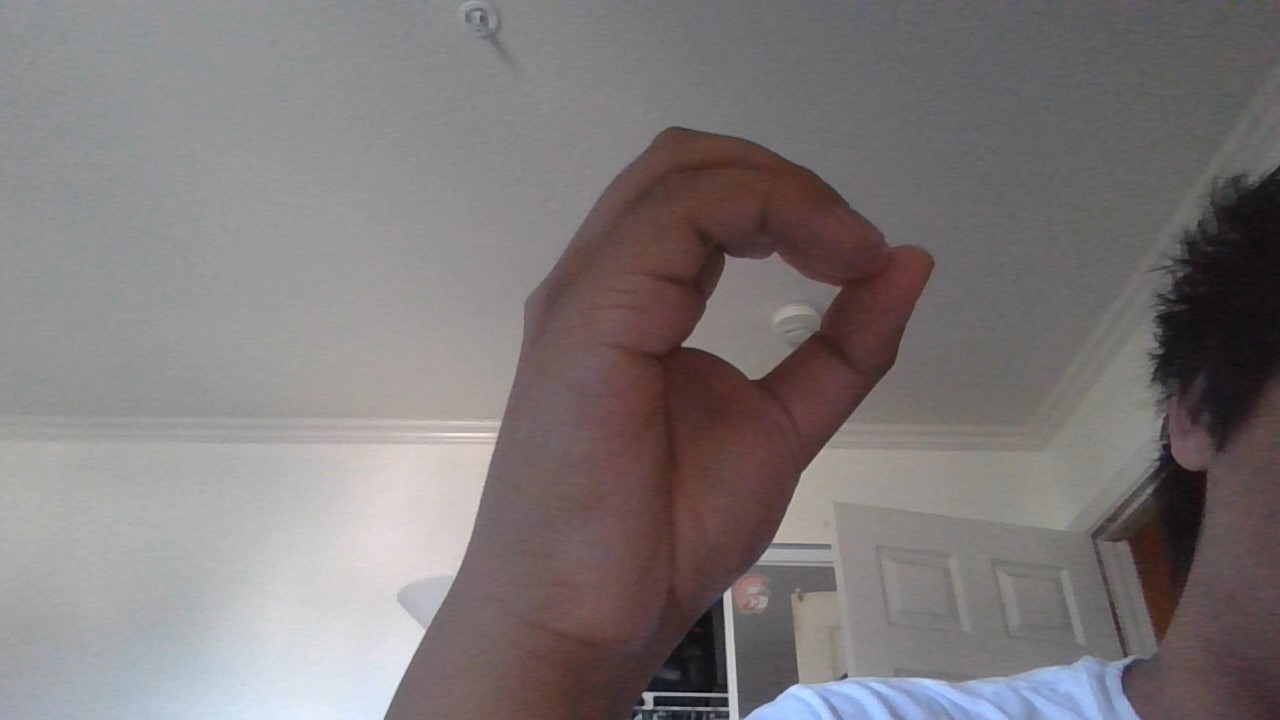o: (443, 107, 961, 665)
